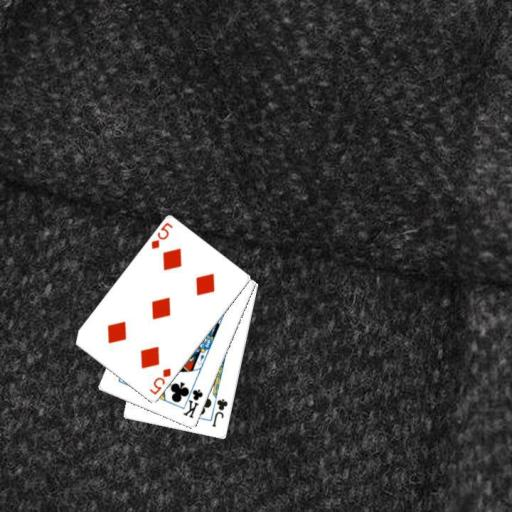5D: (146, 365, 173, 397), (148, 220, 174, 251)
JC: (209, 396, 230, 429)
KC: (179, 381, 205, 420)
